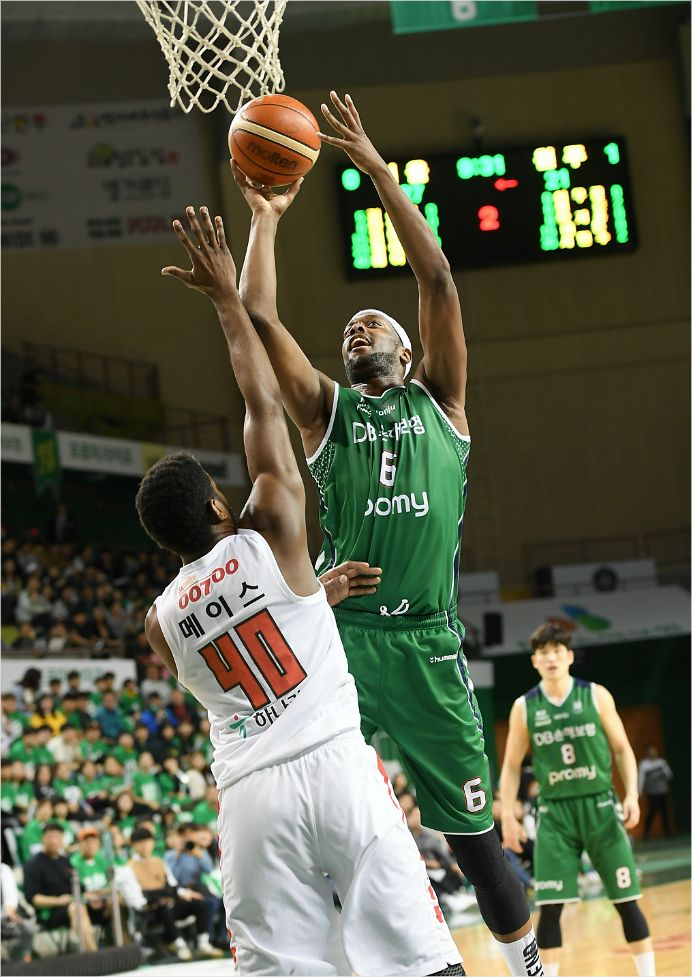ball: (221, 83, 331, 195)
defense: (84, 184, 456, 977)
shoot: (205, 61, 562, 977)
stand: (489, 610, 692, 977)
